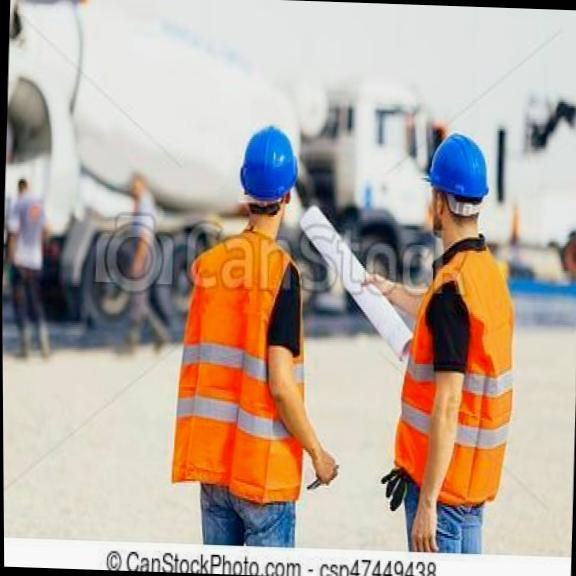safety_vest: (168, 220, 316, 488), (387, 228, 522, 503)
